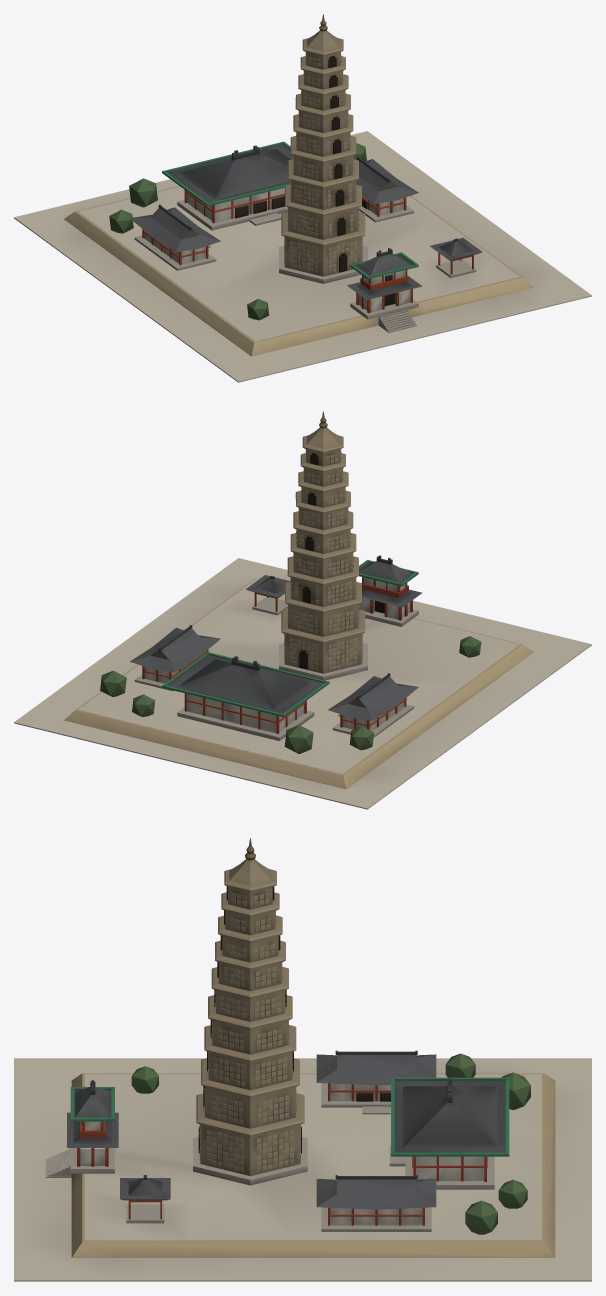
Rendered from fan-pagoda.glb.
3 views of the same model, one above another, from view 1: azimuth 30°, elevation 25°; view 2: azimuth 150°, elevation 25°; view 3: azimuth 270°, elevation 25° (orthographic). The views are drawn at different scales.
Visible parts, largest first — view 1: p0_terrace, p2_trees, p1_halls; view 2: p0_terrace, p2_trees, p1_halls; view 3: p0_terrace, p2_trees, p1_halls.
Boxes of the visible parts, x1,y1,x2,y2 form: p0_terrace: (14, 131, 591, 382); p2_trees: (109, 14, 422, 320); p1_halls: (134, 159, 482, 319); p0_terrace: (14, 558, 591, 809); p2_trees: (100, 411, 481, 753); p1_halls: (134, 556, 418, 741); p0_terrace: (14, 1058, 591, 1281); p2_trees: (67, 838, 530, 1234); p1_halls: (70, 1025, 494, 1231).
Bounding box in the file's own units: 100 × 69.79 × 110.
